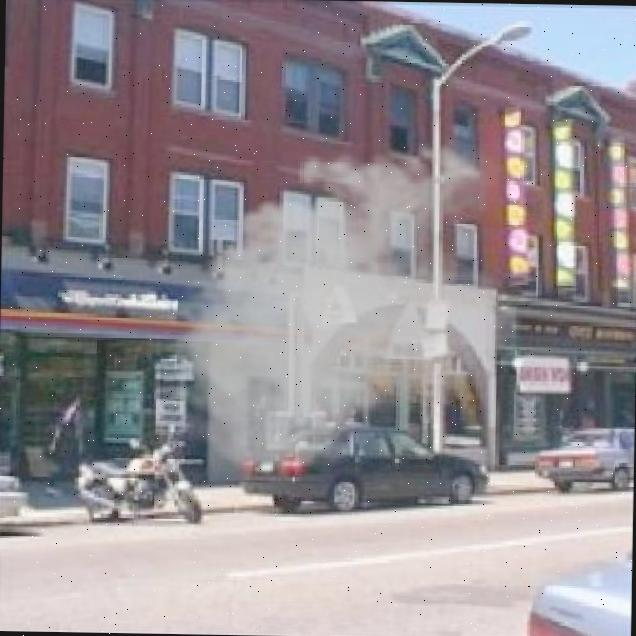smoke: (163, 132, 502, 495)
